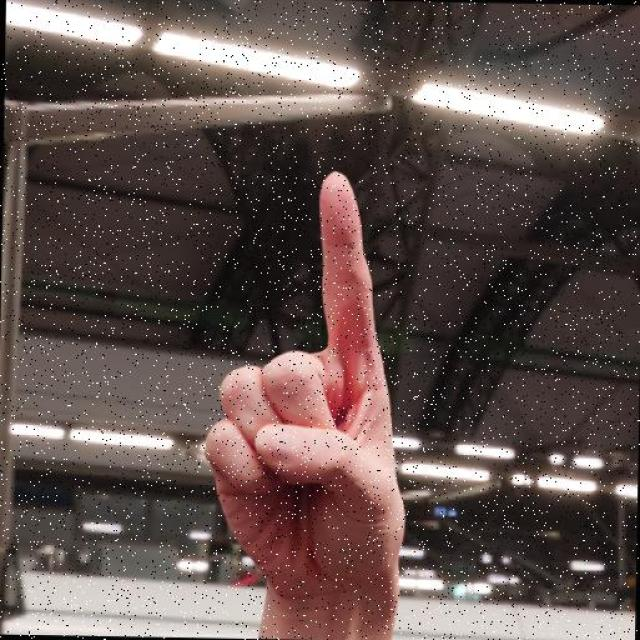Z: (175, 142, 438, 617)
